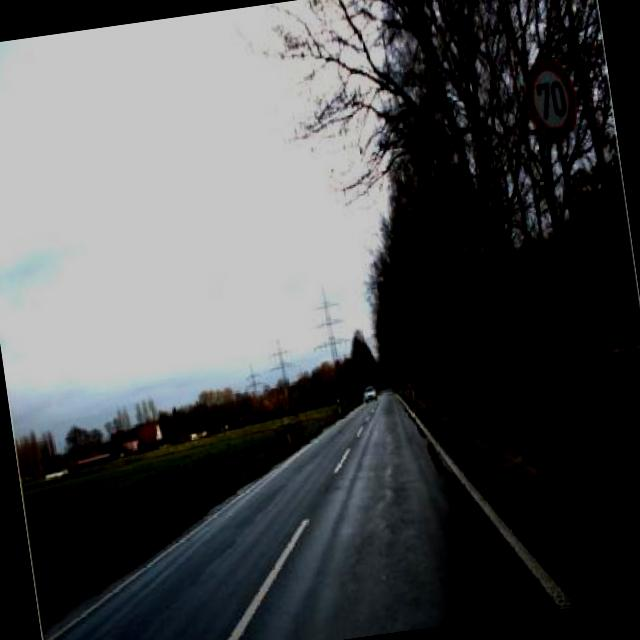Ograniczenie predkosci do 70: (520, 50, 581, 147)
